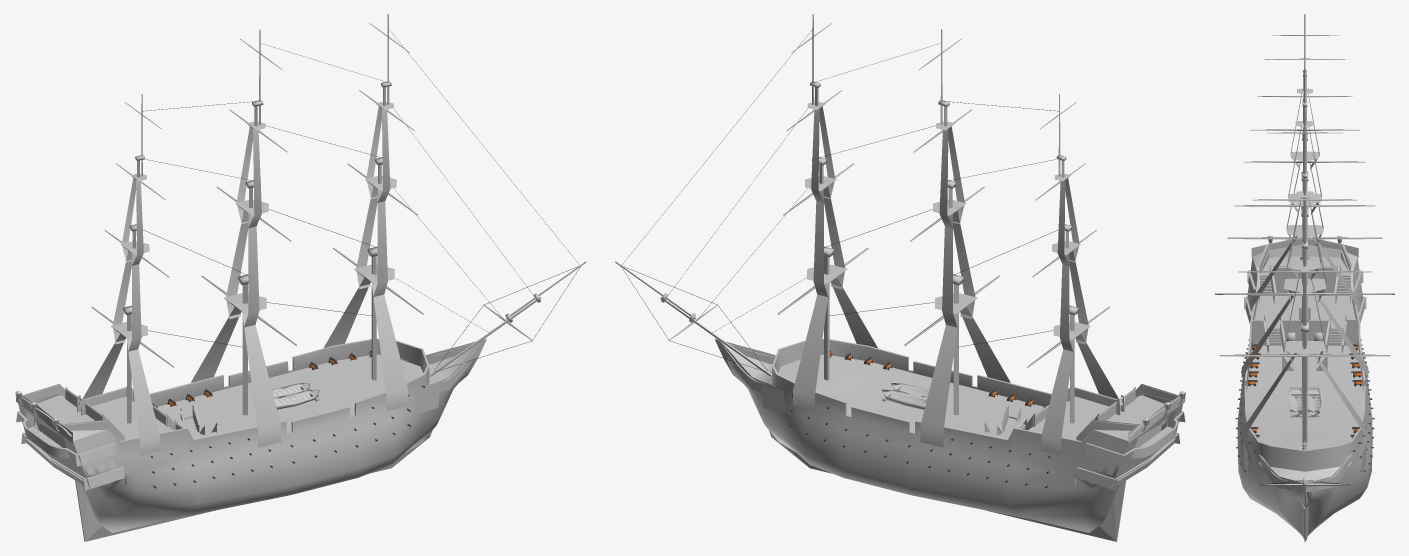
Rendered from LineWarship80-cannons_LOD3.FBX.
The picture shows the model from 3 angles, left to right: view 1: azimuth 30°, elevation 25°; view 2: azimuth 150°, elevation 25°; view 3: azimuth 270°, elevation 25°; orthographic projection. The views are drawn at different scales.
Visible parts, largest first — view 1: LineWarship80-cannonCorps_LD3_001, VantsVeryLowLD3_001, Line warship 80-cannon_MastsLD3_001, DetailLD2_002, LineWarship80-cannonComponents_LD3_001, Rope1LD0_005; view 2: LineWarship80-cannonCorps_LD3_001, VantsVeryLowLD3_001, Line warship 80-cannon_MastsLD3_001, DetailLD2_002, LineWarship80-cannonComponents_LD3_001, Rope1LD0_005; view 3: LineWarship80-cannonCorps_LD3_001, Line warship 80-cannon_MastsLD3_001, LineWarship80-cannonComponents_LD3_001, DetailLD2_002, VantsVeryLowLD3_001, WindowsLD3_001, AnchorLow_005.
Boxes of the visible parts, x1=… form: LineWarship80-cannonCorps_LD3_001: x1=18, y1=338, x2=486, y2=541; VantsVeryLowLD3_001: x1=82, y1=106, x2=408, y2=455; Line warship 80-cannon_MastsLD3_001: x1=91, y1=14, x2=586, y2=423; DetailLD2_002: x1=16, y1=341, x2=481, y2=490; LineWarship80-cannonComponents_LD3_001: x1=15, y1=342, x2=480, y2=485; Rope1LD0_005: x1=143, y1=32, x2=580, y2=371; LineWarship80-cannonCorps_LD3_001: x1=714, y1=338, x2=1183, y2=541; VantsVeryLowLD3_001: x1=793, y1=106, x2=1118, y2=455; Line warship 80-cannon_MastsLD3_001: x1=615, y1=14, x2=1109, y2=423; DetailLD2_002: x1=720, y1=341, x2=1185, y2=490; LineWarship80-cannonComponents_LD3_001: x1=721, y1=342, x2=1185, y2=485; Rope1LD0_005: x1=621, y1=30, x2=1058, y2=371; LineWarship80-cannonCorps_LD3_001: x1=1237, y1=245, x2=1372, y2=541; Line warship 80-cannon_MastsLD3_001: x1=1215, y1=14, x2=1394, y2=486; LineWarship80-cannonComponents_LD3_001: x1=1245, y1=239, x2=1364, y2=482; DetailLD2_002: x1=1244, y1=239, x2=1366, y2=492; VantsVeryLowLD3_001: x1=1241, y1=94, x2=1368, y2=434; WindowsLD3_001: x1=1248, y1=262, x2=1362, y2=339; AnchorLow_005: x1=1243, y1=442, x2=1366, y2=474.
Bounding box in the file's own units: 2751 × 2231 × 815.
